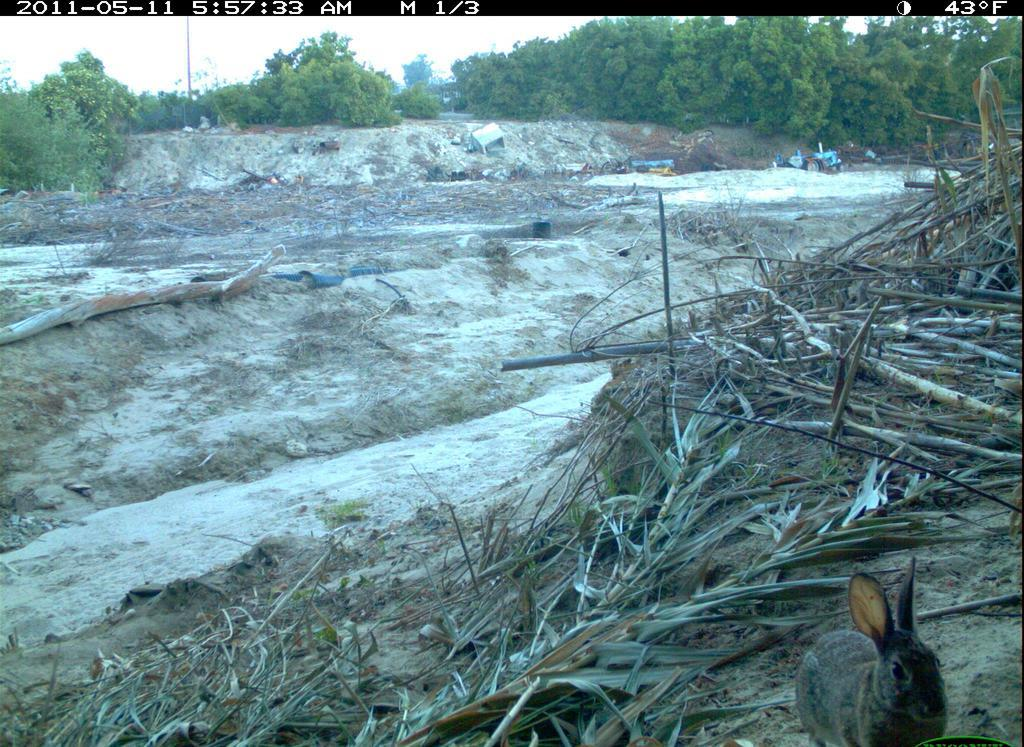rabbit: (777, 555, 966, 747)
